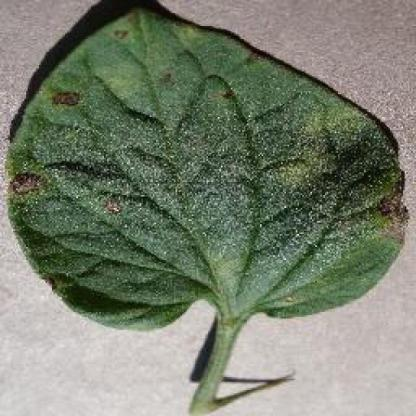Tomato_Blight: (8, 11, 406, 330)
